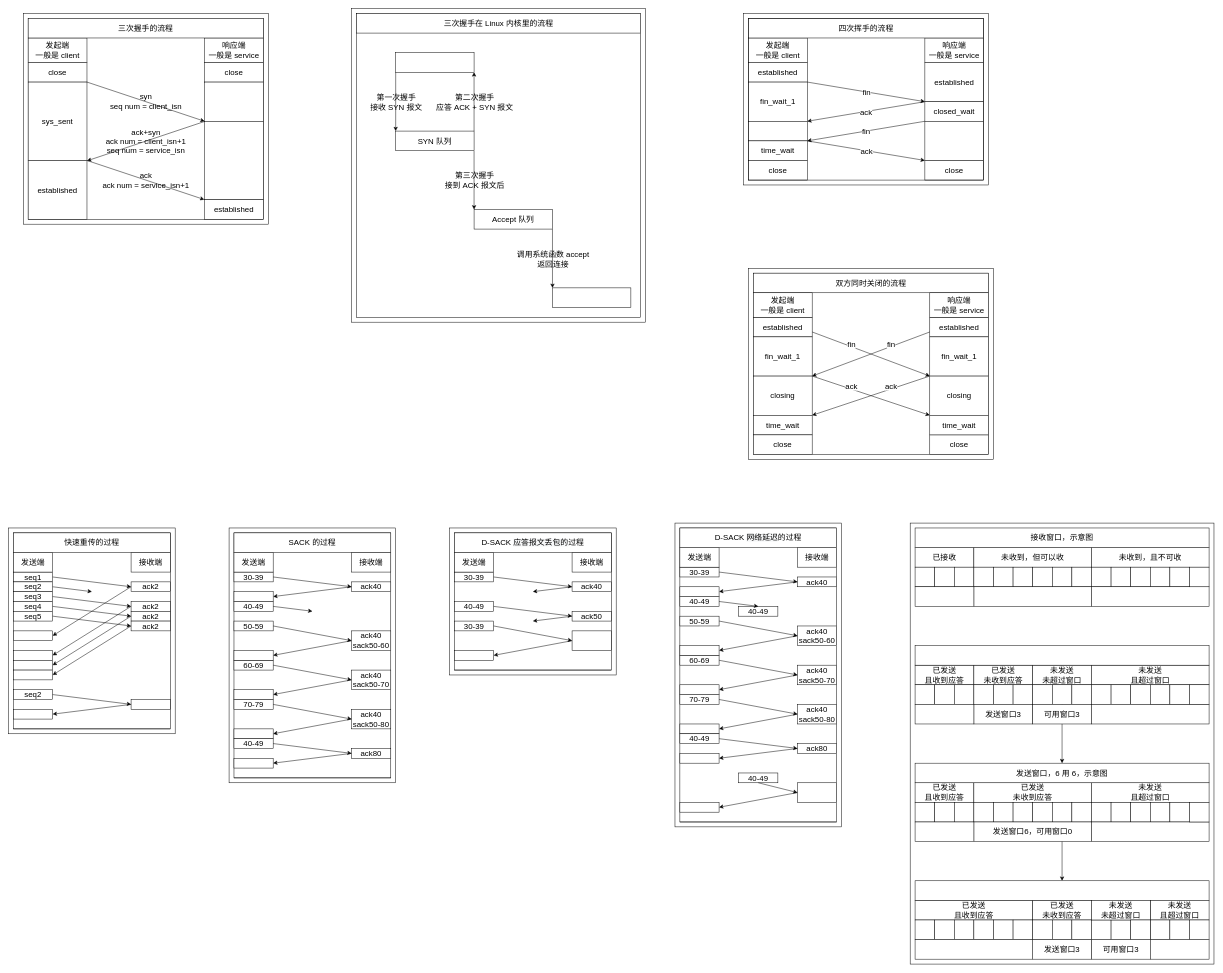
Image size: 1223x973. Some labels were removed from this diagram. The centre of each missing label's shape, as x and y in pixels:
"ack50 sack30-40" goes at (591,640).
"ack6" goes at (150,704).
"ack80 sack40-50" goes at (817,792).
"fin_wait_2" goes at (777,131).
"last_ack" goes at (954,140).
"listen" goes at (233,101).
"syn_rcvd" goes at (233,160).
"发起端" goes at (434,62).
"发送窗口，6 用 3，示意图" goes at (1062,655).
"发送窗口，收到 3 个应答，6 用 3，示意图" goes at (1062,890).
"应用程序" goes at (591,297).
